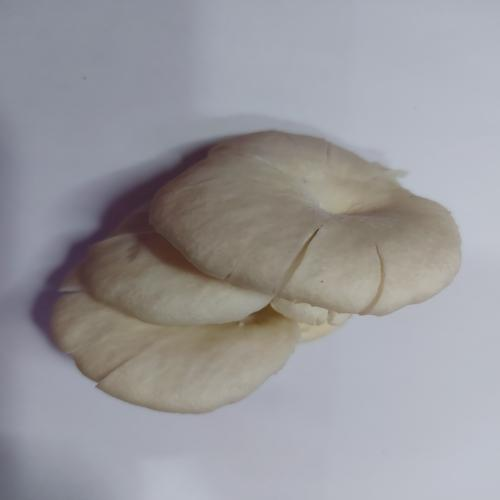Oyster Mushroom: (47, 129, 463, 414)
